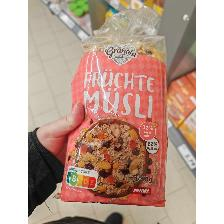Cerealien: (51, 5, 171, 209)
